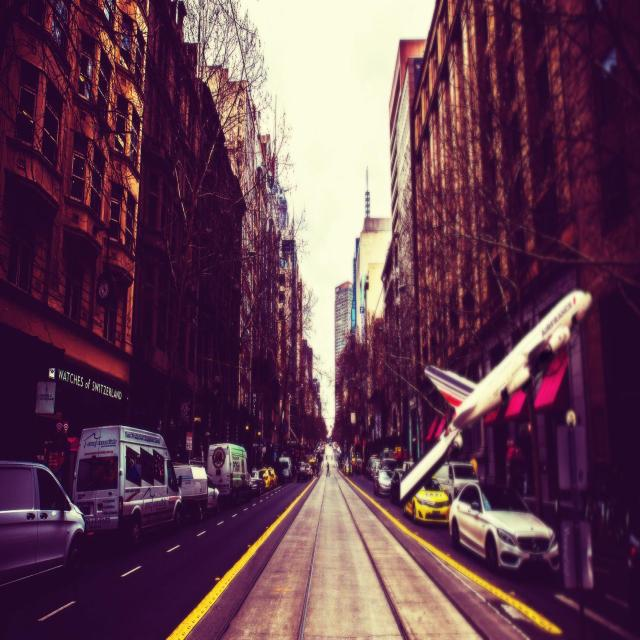airplane: (390, 288, 592, 507)
